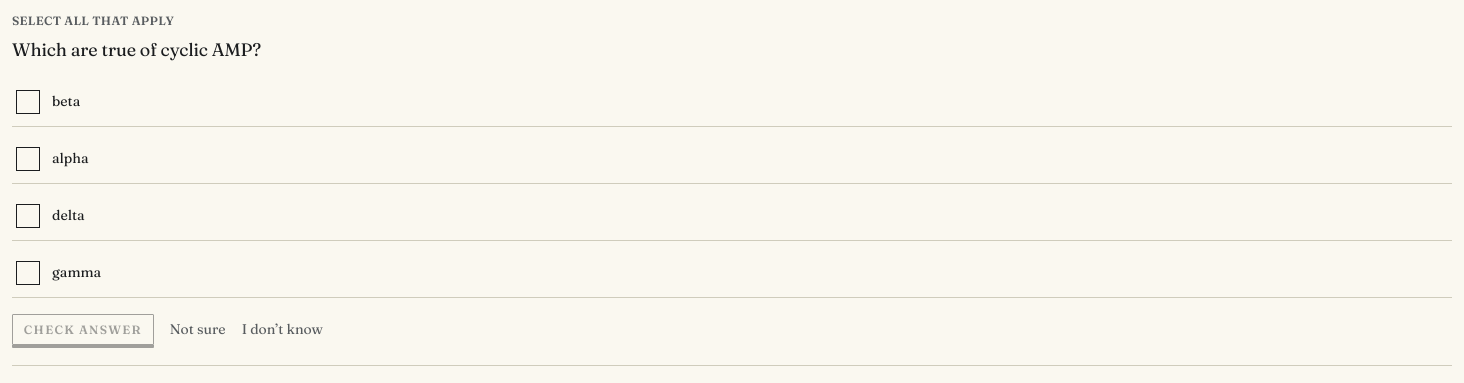
Test: MultiCard › checks only once a statement is ticked, and a tick can be taken back
Check: the button "Check answer" is disabled, box [12,314,154,346]
Click the checkbox "alpha".
click(70, 158)  # box [12,135,1452,184]
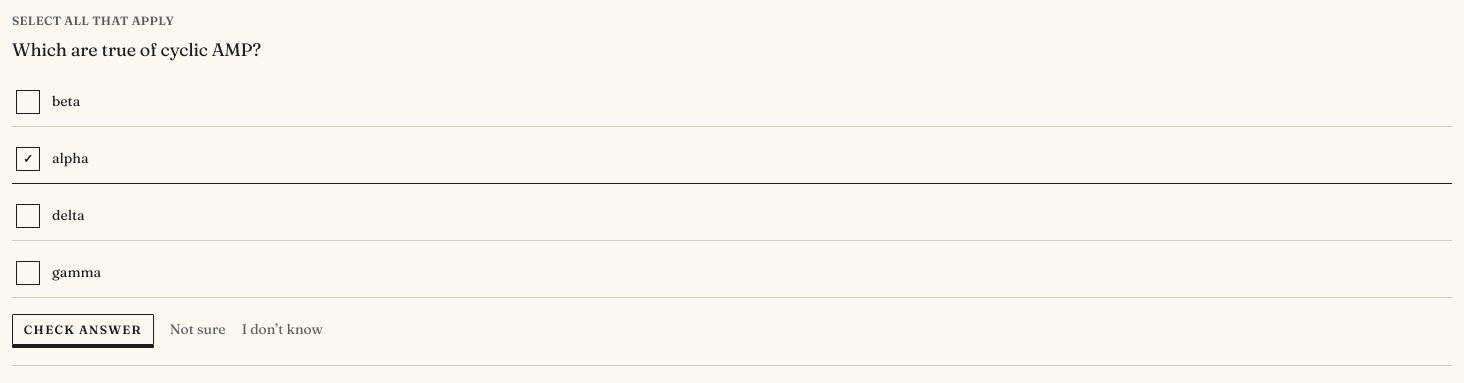
Check: the button "Check answer" is enabled, box [12,314,154,346]
Click the checkbox "alpha".
click(70, 158)  # box [12,135,1452,184]
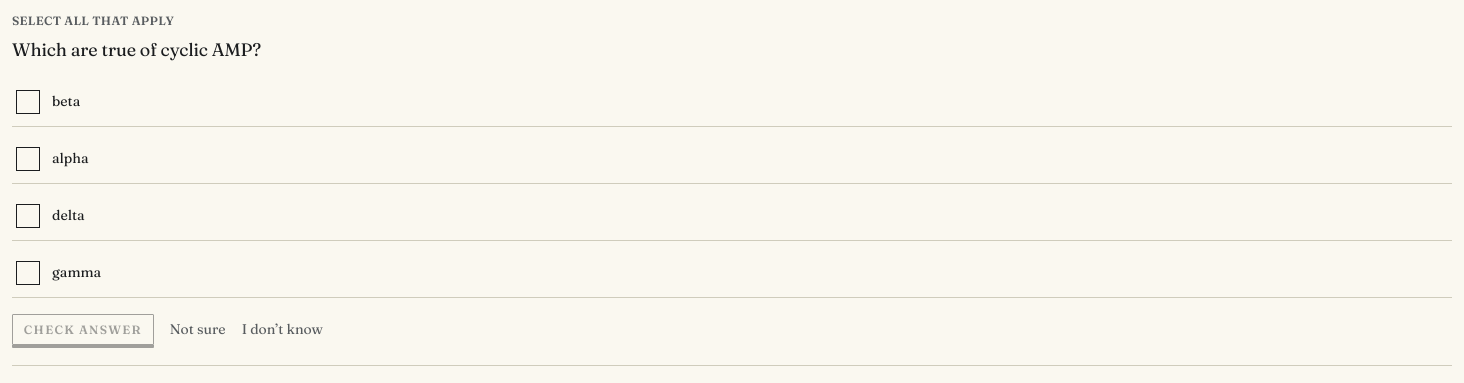
Check: the button "Check answer" is disabled, box [12,314,154,346]
